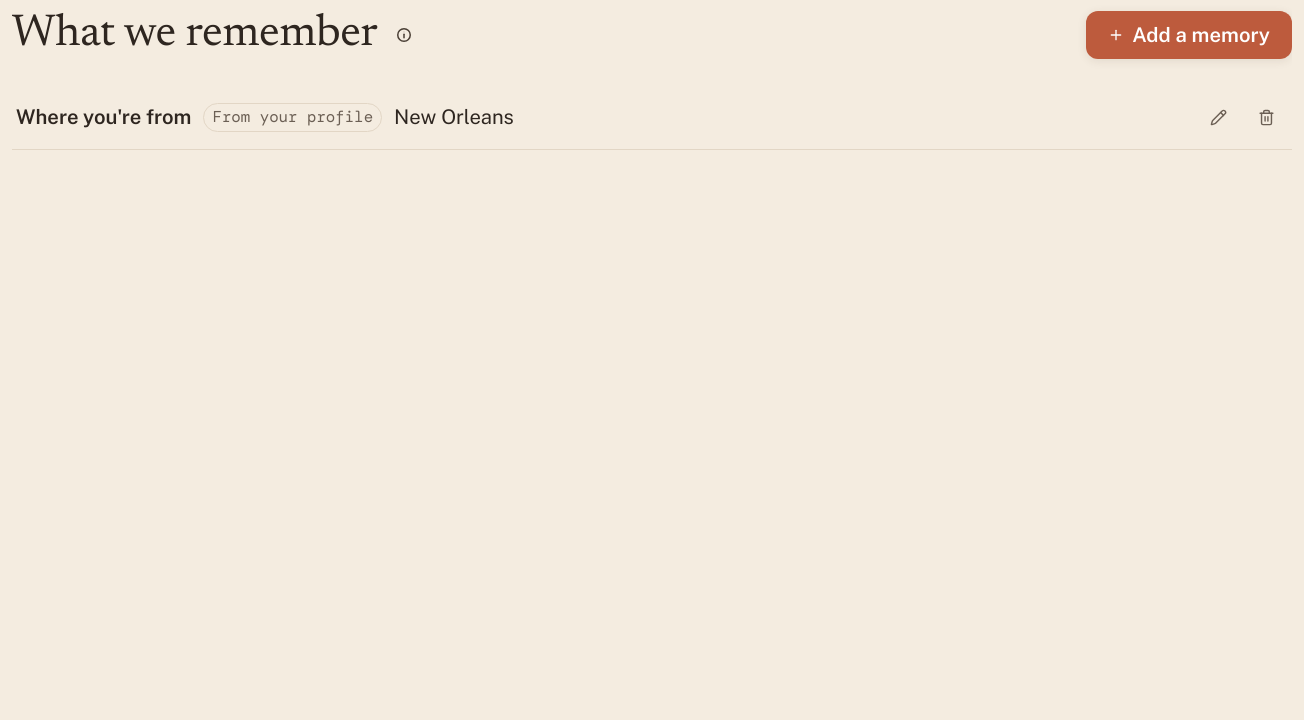
it: MemoriesList — add-a-memory stub › opens the create form, and surfaces the stub's not-available error without throwing
This screenshot has width=1304, height=720.
Click the button "Add a memory" at coordinates (1189, 35), box [1086,11,1292,59]
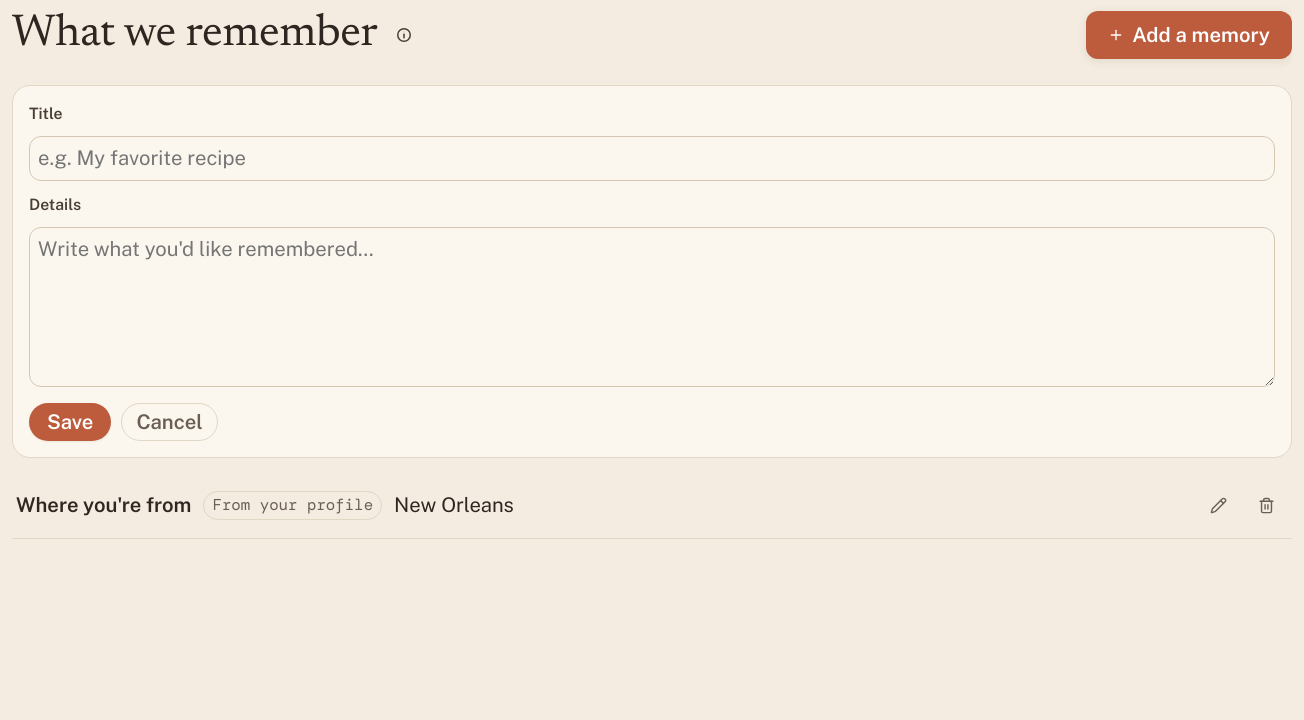
Type "Grandma's pie" into the field with placeholder "e.g. My favorite recipe" at coordinates (652, 158), box [29,136,1275,181]
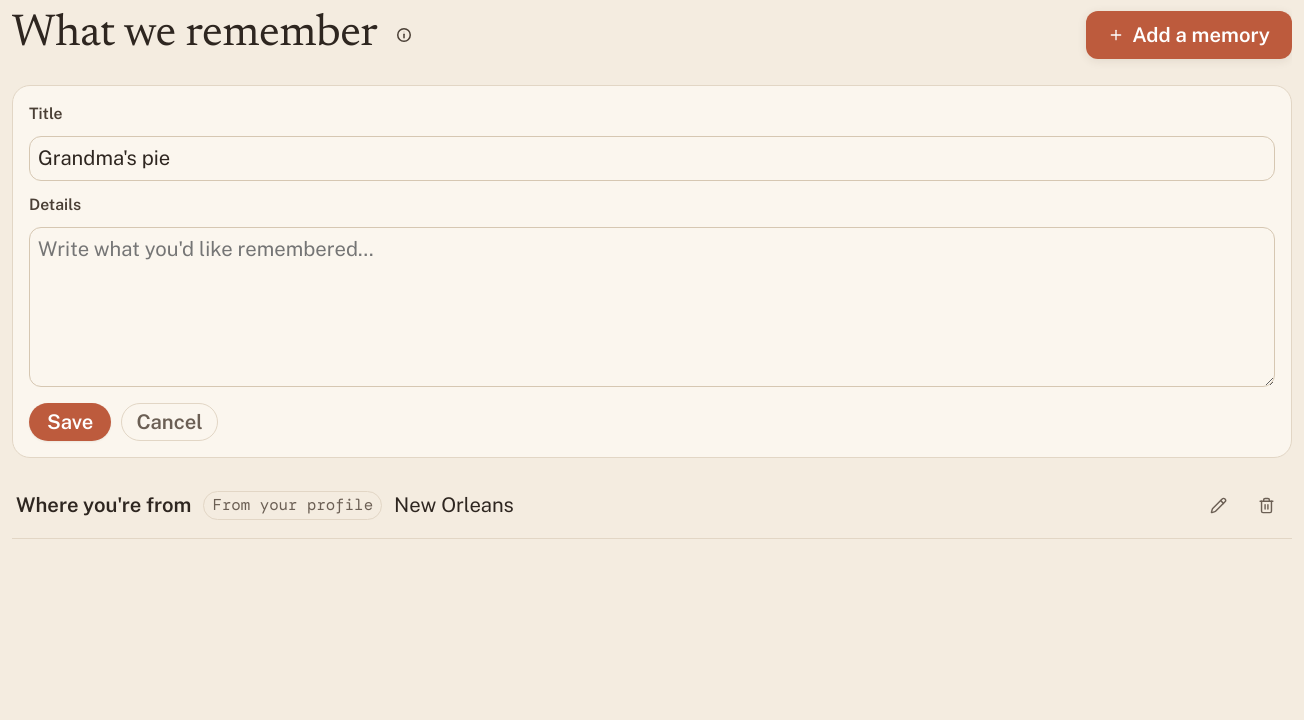
Click the button "Save" at coordinates (70, 422), box [29,403,111,441]
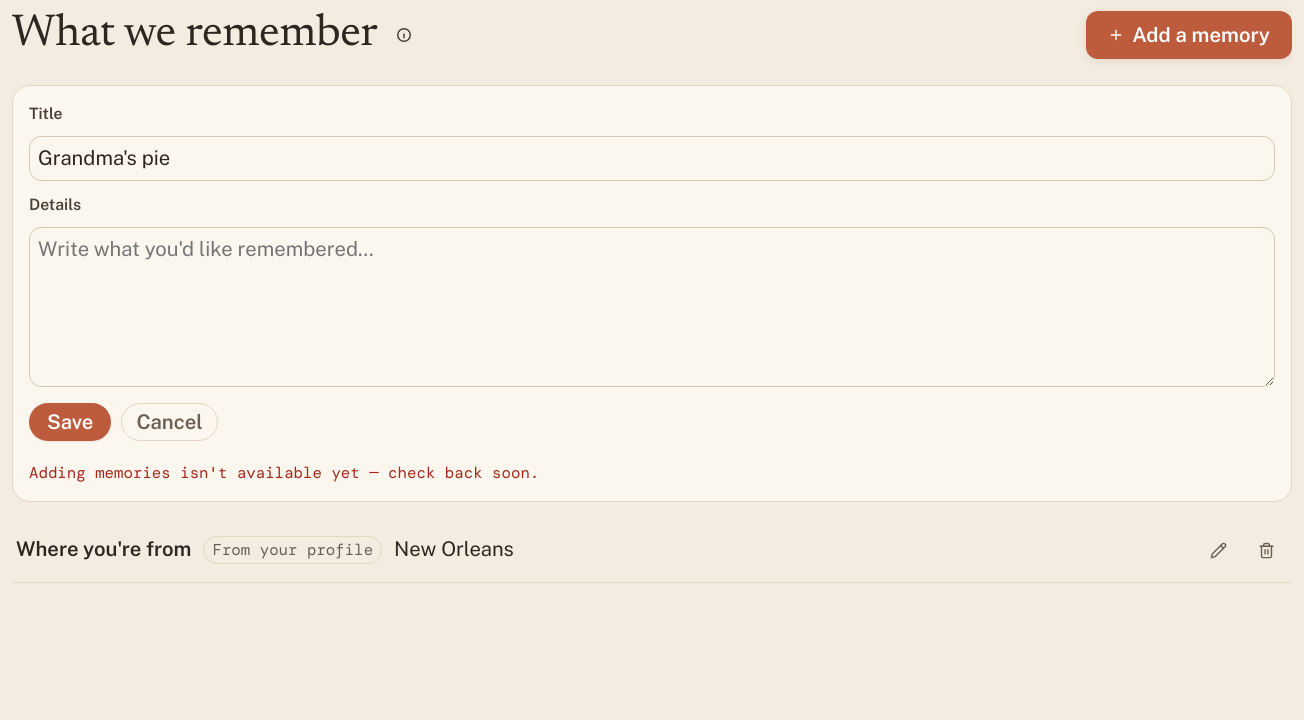
Now the text "Adding memories isn't available yet — check back soon." is shown, box [29,462,539,483]
